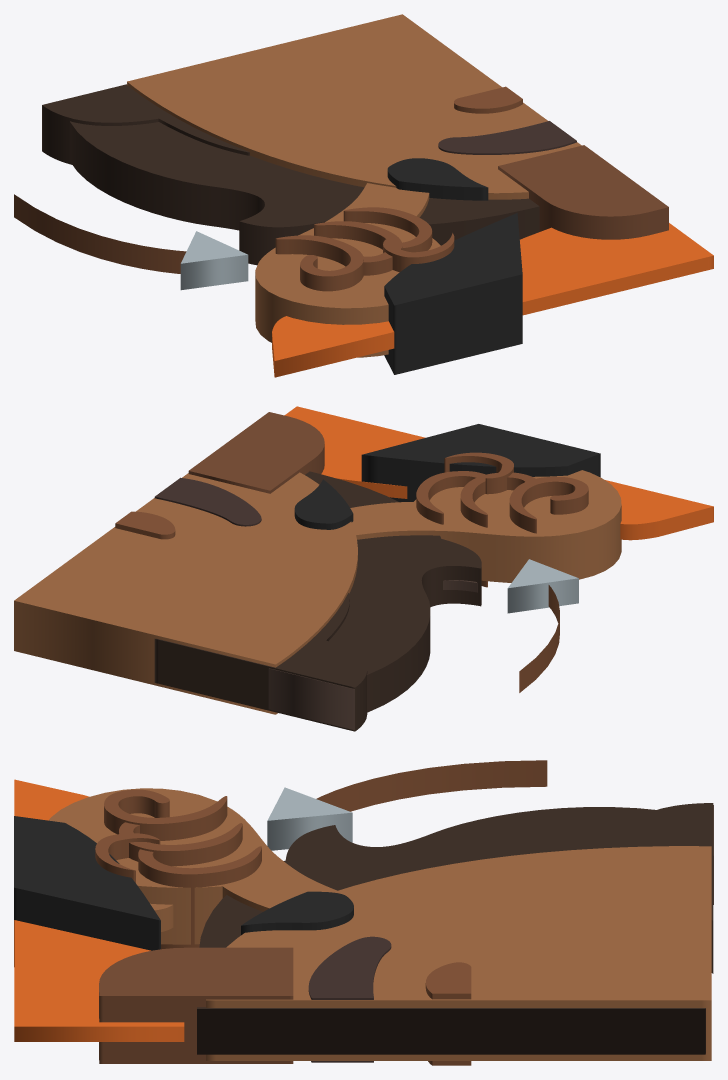
The model's file is emoji_u1f9cf_1f3fe.glb.
3 views of the same model, one above another, from view 1: azimuth 30°, elevation 25°; view 2: azimuth 150°, elevation 25°; view 3: azimuth 270°, elevation 25° (orthographic). The views are drawn at different scales.
Visible parts, largest first — view 1: emoji_u1f9cf_1f3fe; view 2: emoji_u1f9cf_1f3fe; view 3: emoji_u1f9cf_1f3fe.
Boxes of the visible parts, x1,y1,x2,y2 form: emoji_u1f9cf_1f3fe: (14, 14, 713, 377); emoji_u1f9cf_1f3fe: (14, 406, 713, 731); emoji_u1f9cf_1f3fe: (14, 760, 713, 1065).
Size of the model in its own units: 0.0295 by 0.005 by 0.0335.
